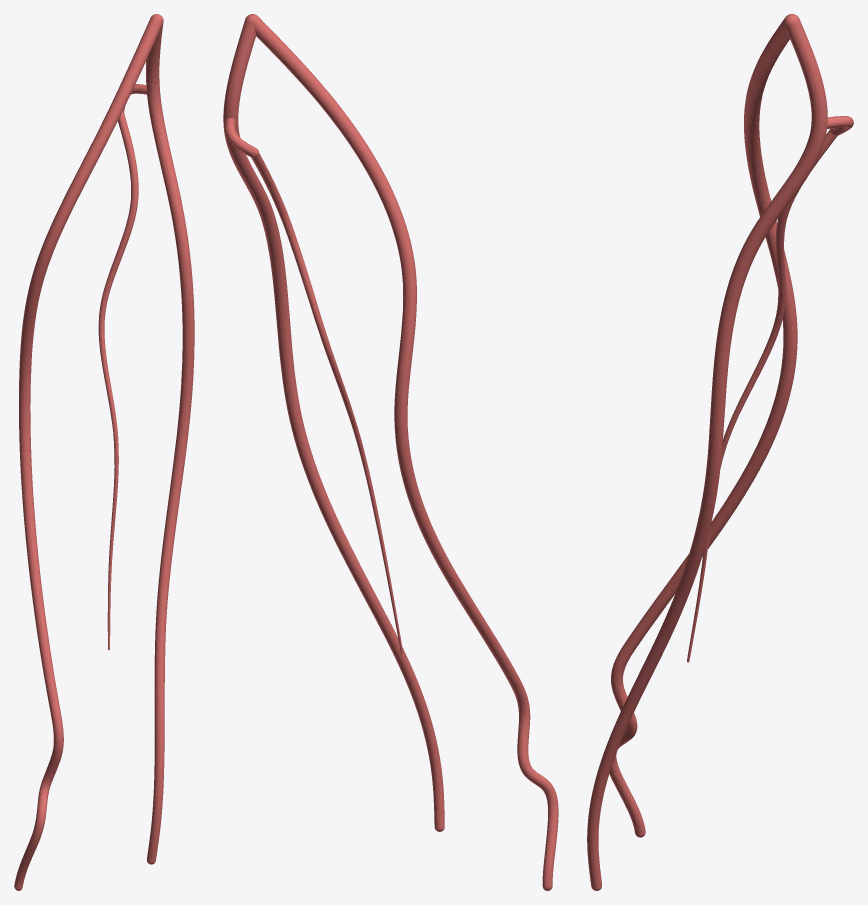
Rendered from forearm-artery.glb.
The picture shows the model from 3 angles, left to right: view 1: azimuth 30°, elevation 25°; view 2: azimuth 150°, elevation 25°; view 3: azimuth 270°, elevation 25°; orthographic projection. The views are drawn at different scales.
Parts seen in each view (by area): view 1: radial-artery__BP6335, ulnar-artery__BP6315, anterior-interosseous-artery__BP6298; view 2: radial-artery__BP6335, ulnar-artery__BP6315, anterior-interosseous-artery__BP6298; view 3: ulnar-artery__BP6315, radial-artery__BP6335, anterior-interosseous-artery__BP6298.
Part boxes in pixels (x1=…): radial-artery__BP6335: x1=14, y1=14, x2=162, y2=890; ulnar-artery__BP6315: x1=146, y1=14, x2=194, y2=864; anterior-interosseous-artery__BP6298: x1=98, y1=112, x2=138, y2=649; radial-artery__BP6335: x1=245, y1=14, x2=558, y2=890; ulnar-artery__BP6315: x1=223, y1=14, x2=444, y2=831; anterior-interosseous-artery__BP6298: x1=251, y1=153, x2=403, y2=654; ulnar-artery__BP6315: x1=587, y1=14, x2=827, y2=890; radial-artery__BP6335: x1=609, y1=14, x2=799, y2=837; anterior-interosseous-artery__BP6298: x1=687, y1=130, x2=837, y2=662.
Bounding box in the file's own units: 0.6846 × 2.33 × 0.5996.
